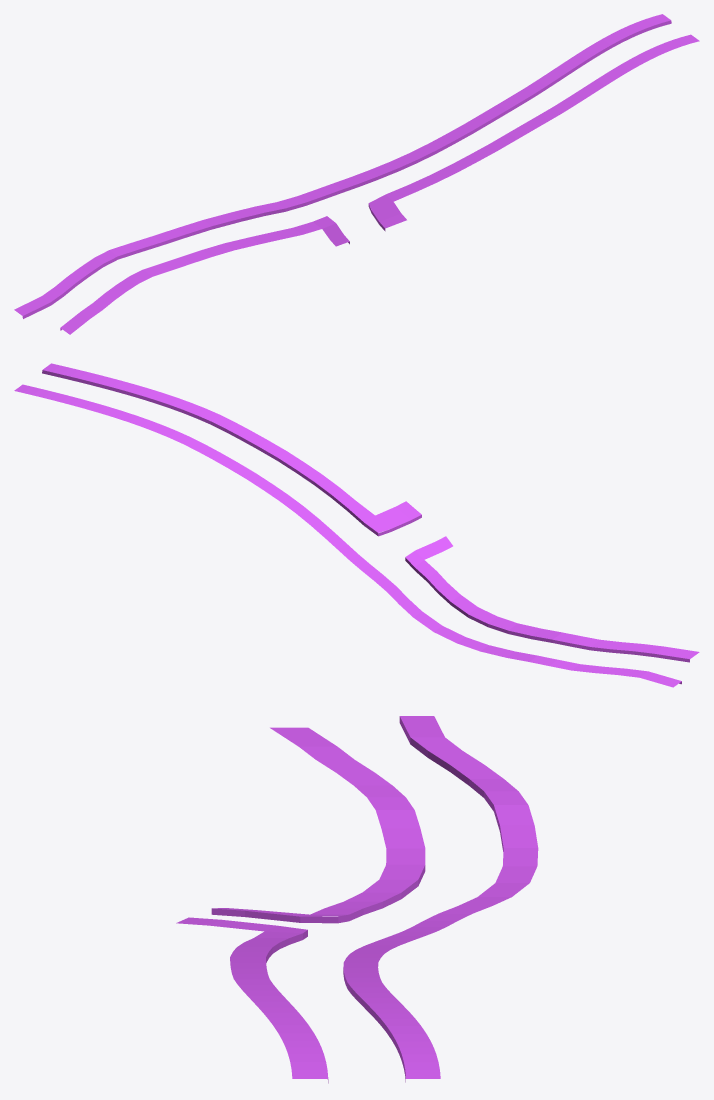
The model's file is acera_tuto.fbx.
3 renders of one model, top to bottom at view 1: azimuth 30°, elevation 25°; view 2: azimuth 150°, elevation 25°; view 3: azimuth 270°, elevation 25°, orthographic. The views are drawn at different scales.
Parts seen in each view (by area): view 1: Tut_Acera; view 2: Tut_Acera; view 3: Tut_Acera.
Boxes of the visible parts, x1,y1,x2,y2 form: Tut_Acera: (14,14,699,334); Tut_Acera: (14,363,699,687); Tut_Acera: (176,716,538,1083).
Bounding box in the file's own units: 39072 × 7988 × 9429.
